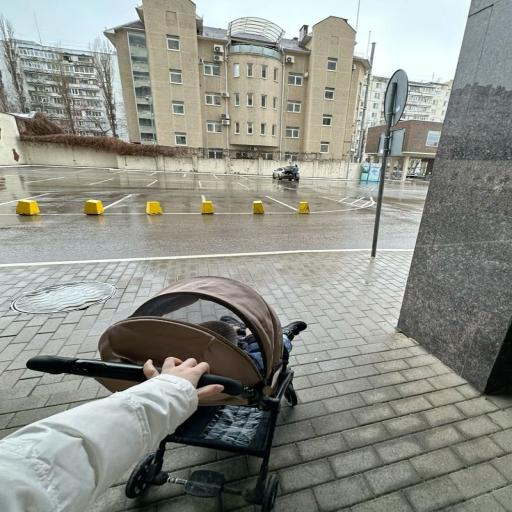people: (27, 277, 297, 511)
